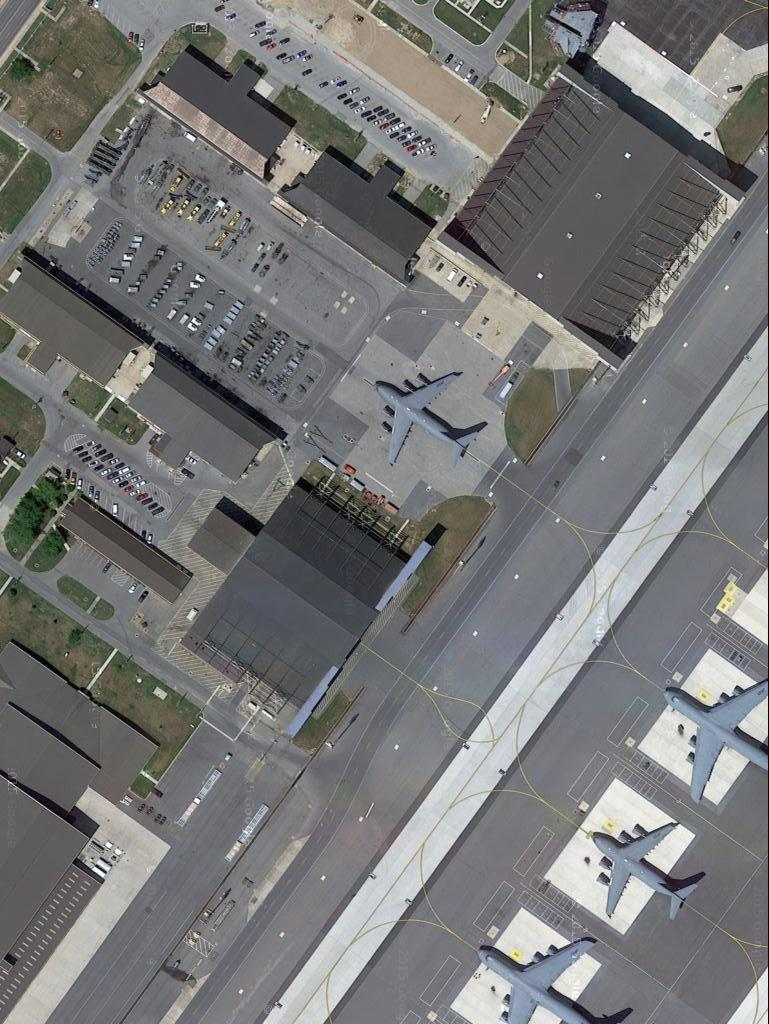C-17: (586, 818, 706, 924), (373, 365, 481, 470)
KC-135: (468, 932, 631, 1024), (659, 680, 764, 809)
